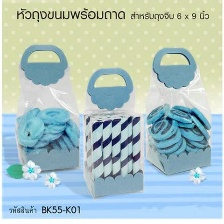snack: (137, 41, 216, 180), (8, 38, 84, 176), (75, 61, 149, 201)
